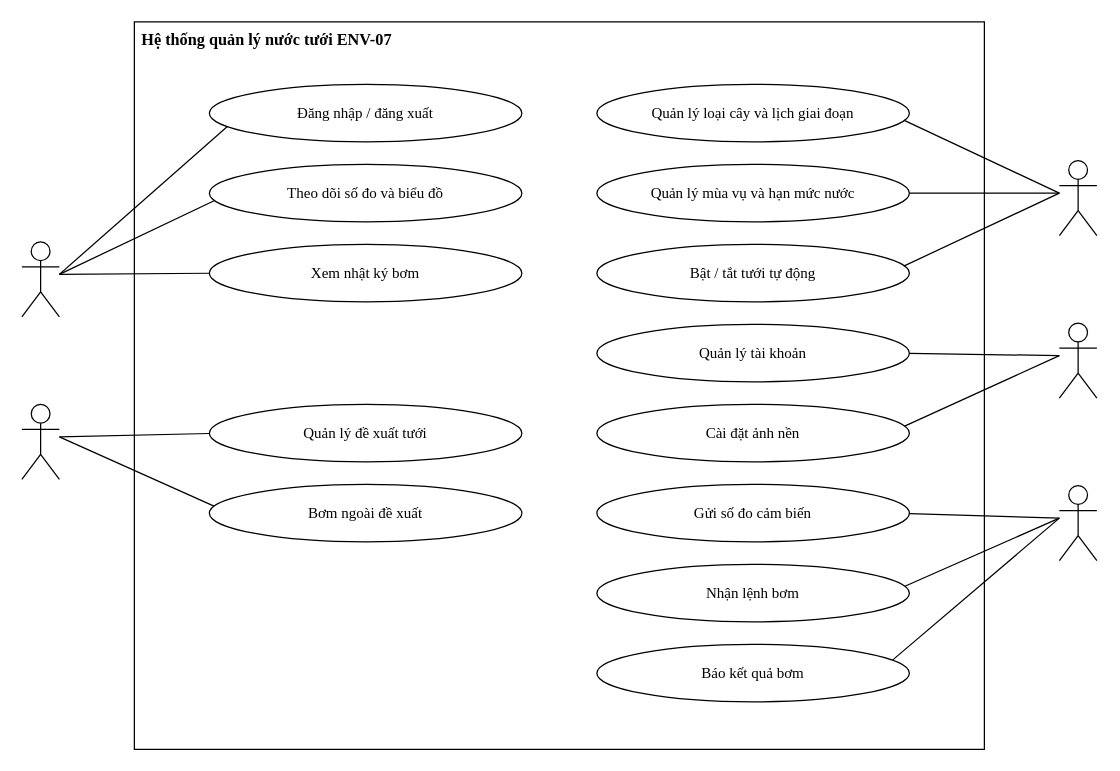
Image size: 1120x771. Some labels were removed from this diagram. Each missing label, with the centre of its shape:
ESP32: the point at 1077,522
Kỹ sư canh tác: the point at 1077,197
Người xem: the point at 40,279
Nông dân vận hành: the point at 40,441
Quản trị hệ thống: the point at 1077,360
